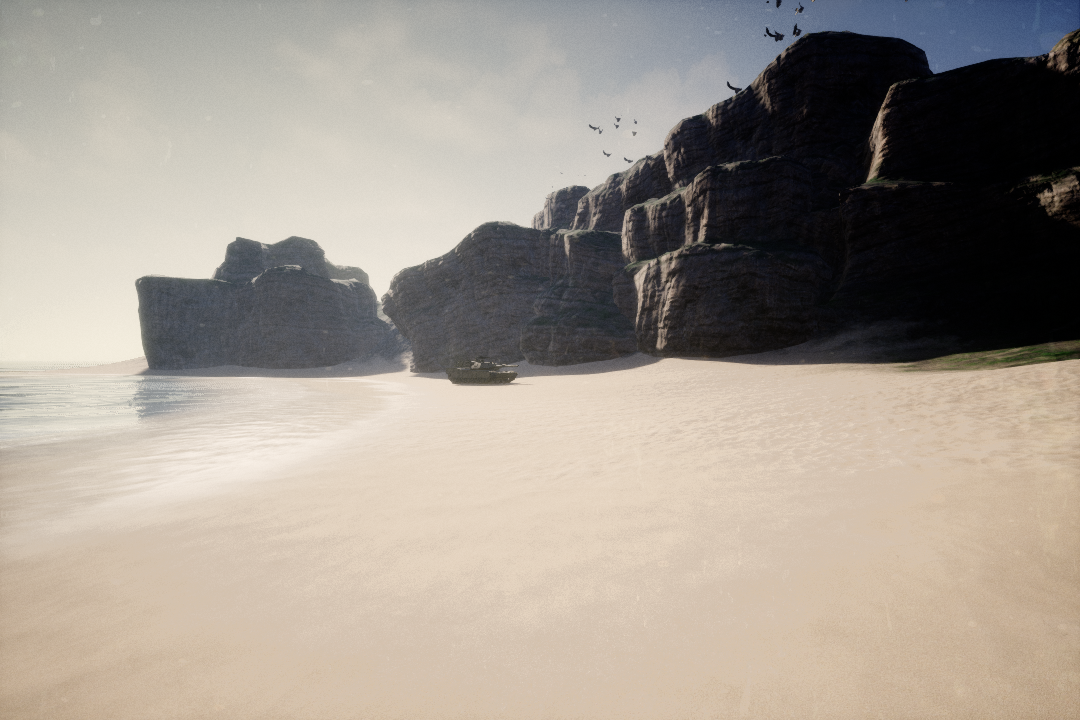tank: (446, 356, 522, 389)
